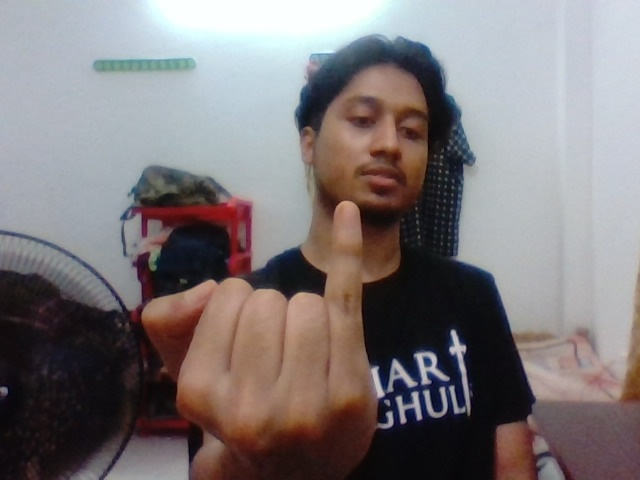I: (145, 185, 410, 440)
